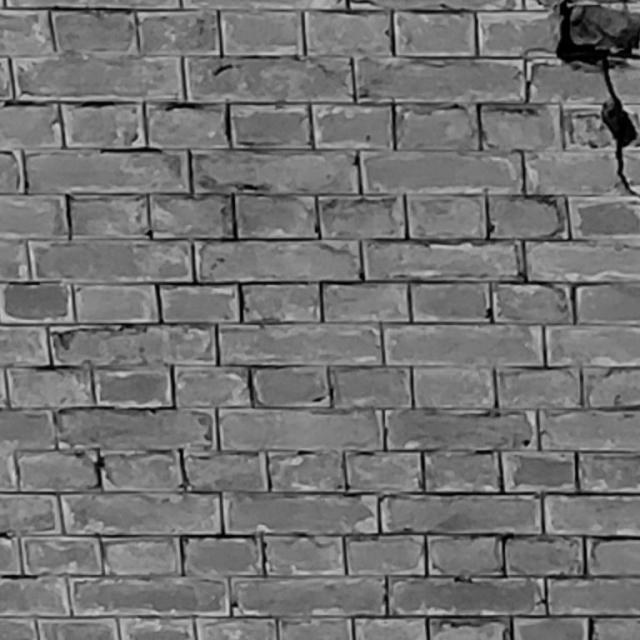crack: (555, 1, 638, 197)
